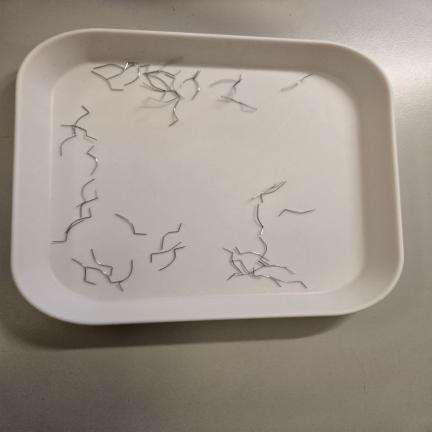probe: (115, 214, 147, 235), (161, 223, 182, 253), (91, 249, 113, 276), (280, 73, 312, 91), (221, 96, 257, 110), (87, 146, 97, 171), (257, 204, 264, 235), (291, 210, 313, 214), (285, 209, 291, 211)
